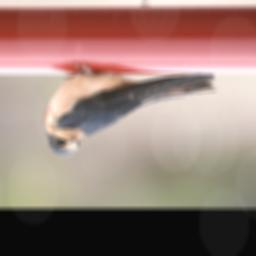Swallow: (42, 57, 218, 159)
